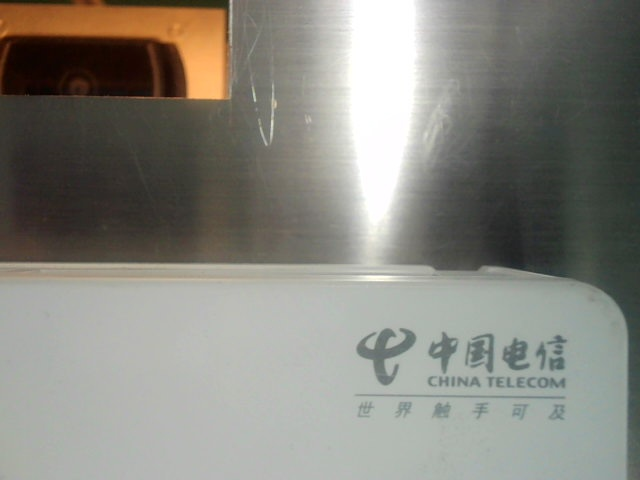AB_ChinaTelecom: (346, 316, 584, 430)
